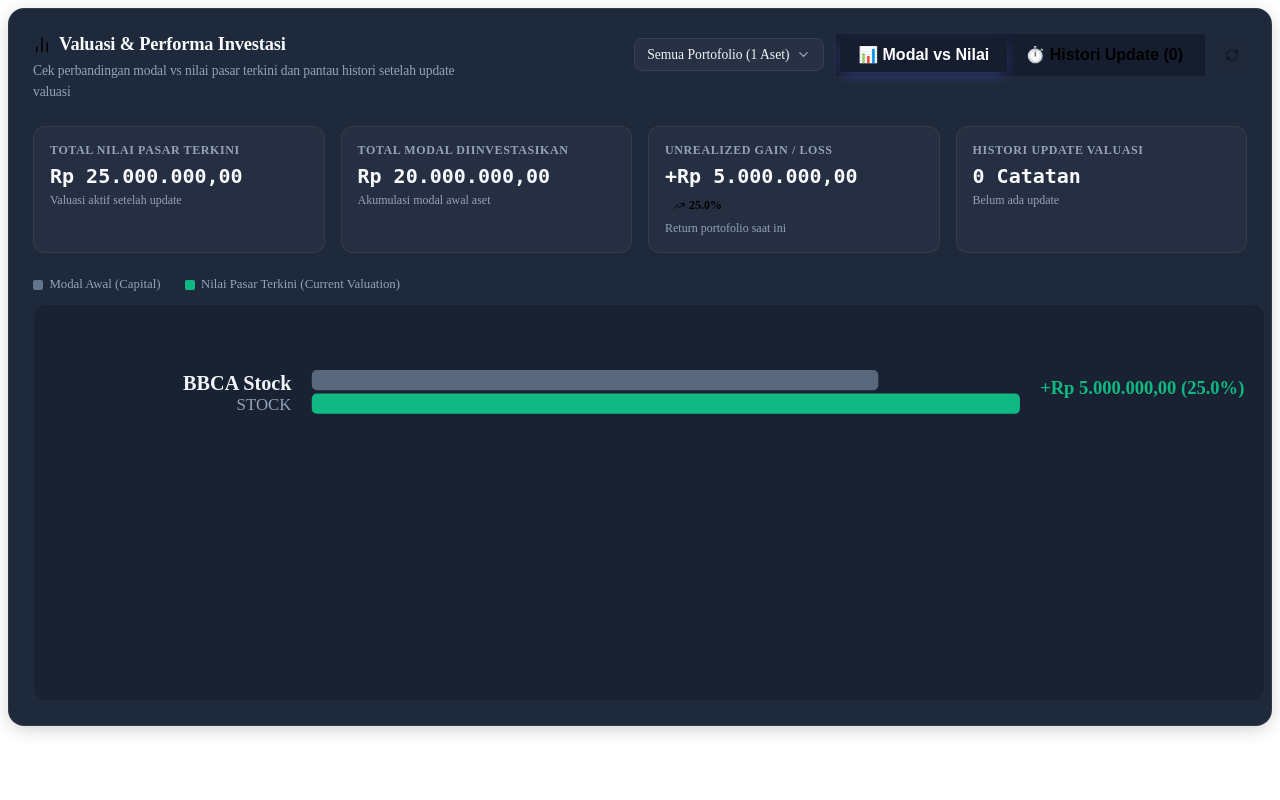
Scenario: InvestmentValuationChart Component › switches to timeline mode and renders update history
Expected: the heading "Valuasi & Performa Investasi" is shown, [59,33,286,56]
Click the button "⏱️ Histori Update (0)" at {"x": 1104, "y": 54}, box [1007,37,1201,72]
(page scrolled)
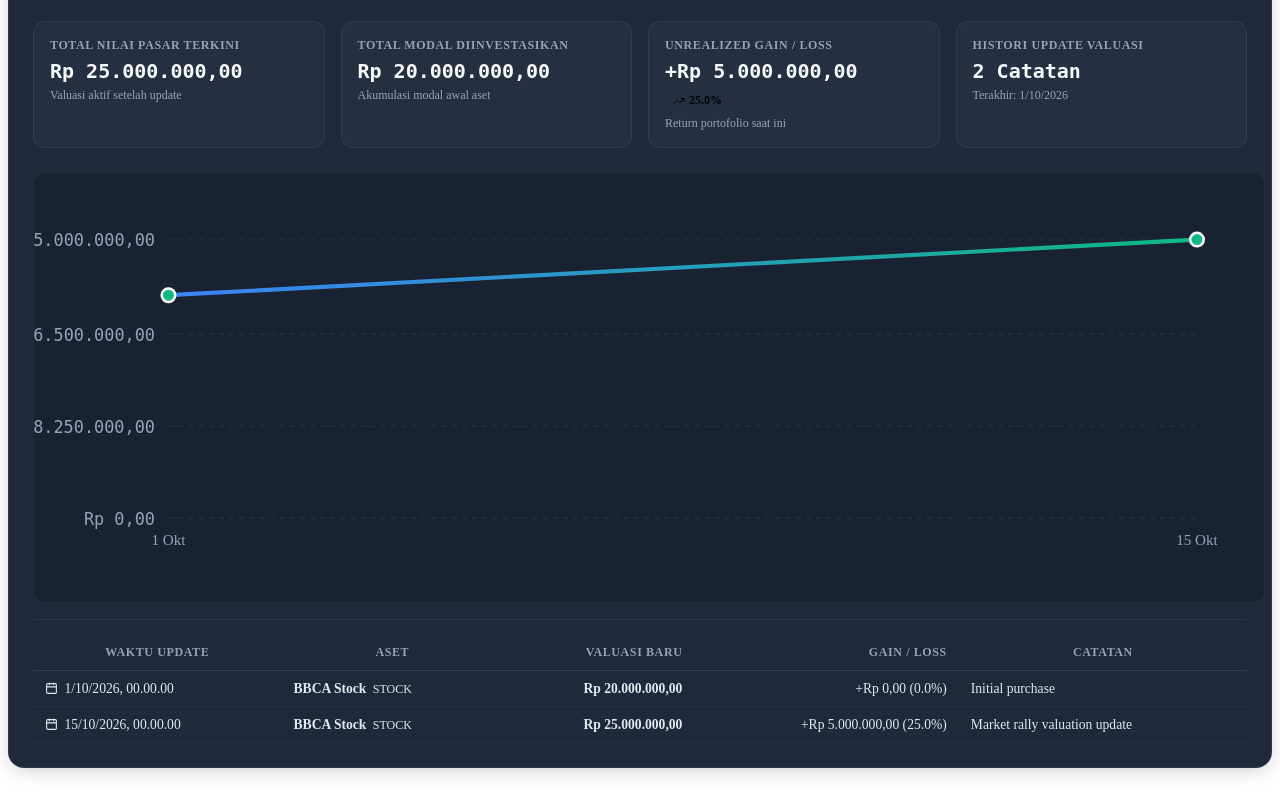
Result: the column heading "Waktu Update" is shown at [33,636,282,670]
Result: the text "Market rally valuation update" is shown at [971,717,1132,732]
